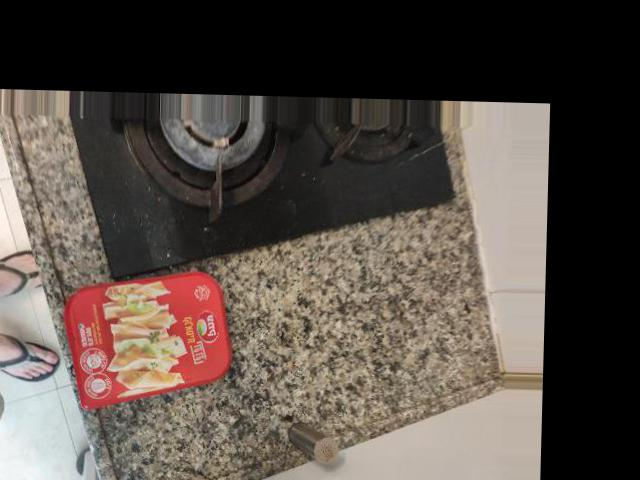cheese: (198, 264, 353, 406)
